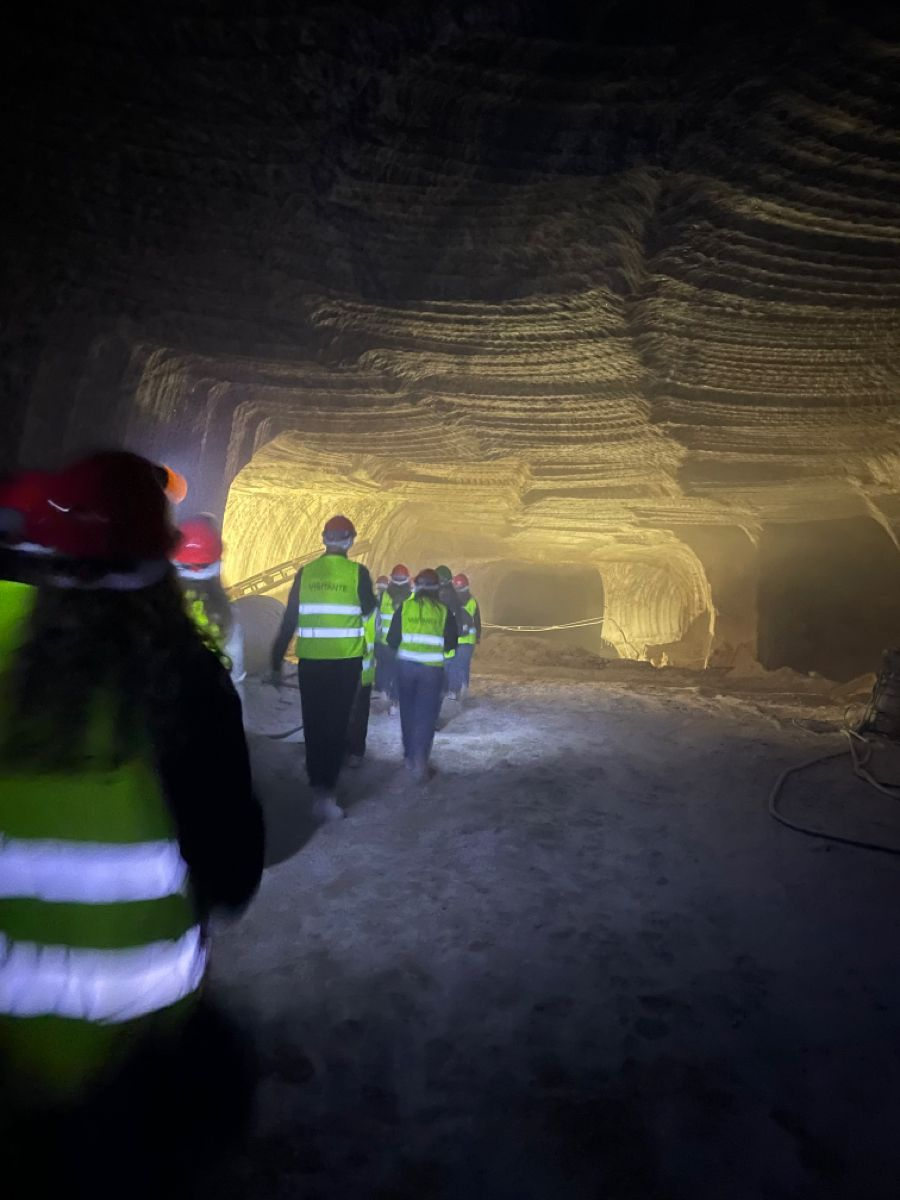hardhat: (20, 467, 179, 592), (173, 513, 225, 606), (304, 511, 358, 547), (386, 557, 411, 612), (419, 571, 447, 612), (453, 559, 475, 608)
person: (10, 465, 256, 1157), (288, 505, 380, 827), (163, 511, 254, 738), (449, 561, 513, 736), (396, 579, 447, 777), (382, 549, 423, 702)
safety_vest: (20, 618, 211, 1097), (290, 549, 372, 702), (404, 600, 447, 678), (455, 590, 481, 672)
